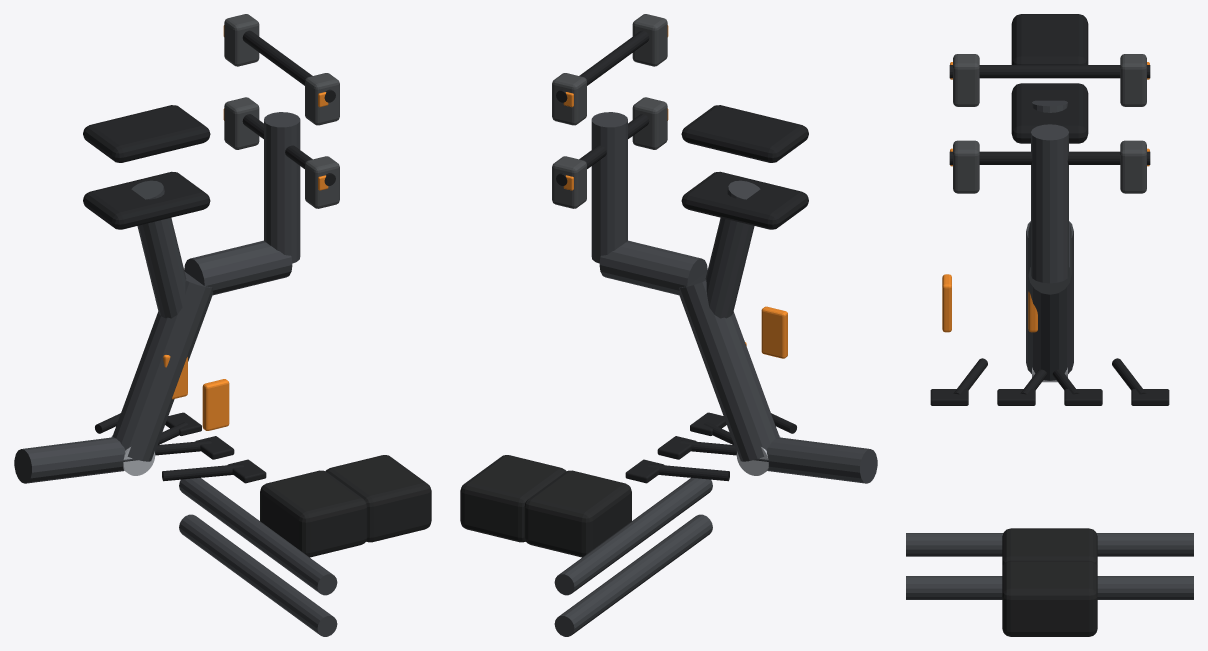
The model's file is zwift-ride-v1.glb.
3 views of the same model, side by side, from view 1: azimuth 30°, elevation 25°; view 2: azimuth 150°, elevation 25°; view 3: azimuth 270°, elevation 25° (orthographic). The views are drawn at different scales.
Visible parts, largest first — view 1: zwift-ride-v1_MAIN_BEAM, zwift-ride-v1_RISER_FOOT, zwift-ride-v1_RISER_FOOT_EXPLODED, zwift-ride-v1_FRONT_MAST, zwift-ride-v1_SADDLE_EXPLODED, zwift-ride-v1_FRONT_LEG_EXPLODED, zwift-ride-v1_FRONT_LEG, zwift-ride-v1_SADDLE, zwift-ride-v1_CHAINSTAY, zwift-ride-v1_TOP_BEAM, zwift-ride-v1_SEAT_MAST, zwift-ride-v1_CTRL_R (+7 smaller); view 2: zwift-ride-v1_MAIN_BEAM, zwift-ride-v1_RISER_FOOT, zwift-ride-v1_RISER_FOOT_EXPLODED, zwift-ride-v1_FRONT_MAST, zwift-ride-v1_SADDLE_EXPLODED, zwift-ride-v1_FRONT_LEG_EXPLODED, zwift-ride-v1_FRONT_LEG, zwift-ride-v1_SADDLE, zwift-ride-v1_CHAINSTAY, zwift-ride-v1_TOP_BEAM, zwift-ride-v1_SEAT_MAST, zwift-ride-v1_CTRL_L (+7 smaller); view 3: zwift-ride-v1_RISER_FOOT_EXPLODED, zwift-ride-v1_FRONT_MAST, zwift-ride-v1_FRONT_LEG, zwift-ride-v1_FRONT_LEG_EXPLODED, zwift-ride-v1_MAIN_BEAM, zwift-ride-v1_SADDLE_EXPLODED, zwift-ride-v1_SADDLE, zwift-ride-v1_RISER_FOOT, zwift-ride-v1_HANDLEBAR_EXPLODED, zwift-ride-v1_HANDLEBAR, zwift-ride-v1_CTRL_L, zwift-ride-v1_CTRL_R (+10 smaller).
Part boxes in pixels (left/top/right/bottom): zwift-ride-v1_MAIN_BEAM: left=112, top=272, right=213, bottom=461; zwift-ride-v1_RISER_FOOT: left=260, top=470, right=367, bottom=557; zwift-ride-v1_RISER_FOOT_EXPLODED: left=326, top=455, right=431, bottom=542; zwift-ride-v1_FRONT_MAST: left=264, top=112, right=300, bottom=263; zwift-ride-v1_SADDLE_EXPLODED: left=83, top=105, right=210, bottom=162; zwift-ride-v1_FRONT_LEG_EXPLODED: left=179, top=514, right=337, bottom=636; zwift-ride-v1_FRONT_LEG: left=179, top=478, right=337, bottom=595; zwift-ride-v1_SADDLE: left=83, top=171, right=210, bottom=229; zwift-ride-v1_CHAINSTAY: left=14, top=437, right=137, bottom=483; zwift-ride-v1_TOP_BEAM: left=184, top=240, right=292, bottom=295; zwift-ride-v1_SEAT_MAST: left=131, top=180, right=186, bottom=318; zwift-ride-v1_CTRL_R: left=224, top=97, right=259, bottom=149; zwift-ride-v1_MAIN_BEAM: left=678, top=272, right=779, bottom=461; zwift-ride-v1_RISER_FOOT: left=524, top=470, right=631, bottom=557; zwift-ride-v1_RISER_FOOT_EXPLODED: left=460, top=455, right=565, bottom=542; zwift-ride-v1_FRONT_MAST: left=591, top=112, right=627, bottom=263; zwift-ride-v1_SADDLE_EXPLODED: left=681, top=105, right=808, bottom=162; zwift-ride-v1_FRONT_LEG_EXPLODED: left=554, top=514, right=712, bottom=636; zwift-ride-v1_FRONT_LEG: left=554, top=478, right=712, bottom=595; zwift-ride-v1_SADDLE: left=681, top=171, right=808, bottom=229; zwift-ride-v1_CHAINSTAY: left=754, top=437, right=877, bottom=483; zwift-ride-v1_TOP_BEAM: left=599, top=240, right=707, bottom=295; zwift-ride-v1_SEAT_MAST: left=705, top=180, right=760, bottom=318; zwift-ride-v1_CTRL_L: left=632, top=97, right=667, bottom=149; zwift-ride-v1_RISER_FOOT_EXPLODED: left=1002, top=560, right=1097, bottom=636; zwift-ride-v1_FRONT_MAST: left=1031, top=124, right=1068, bottom=283; zwift-ride-v1_FRONT_LEG: left=906, top=533, right=1193, bottom=556; zwift-ride-v1_FRONT_LEG_EXPLODED: left=906, top=576, right=1193, bottom=599; zwift-ride-v1_MAIN_BEAM: left=1026, top=221, right=1073, bottom=380; zwift-ride-v1_SADDLE_EXPLODED: left=1011, top=14, right=1088, bottom=64; zwift-ride-v1_SADDLE: left=1011, top=83, right=1088, bottom=143; zwift-ride-v1_RISER_FOOT: left=1002, top=528, right=1097, bottom=567; zwift-ride-v1_HANDLEBAR_EXPLODED: left=949, top=65, right=1150, bottom=78; zwift-ride-v1_HANDLEBAR: left=949, top=151, right=1150, bottom=164; zwift-ride-v1_CTRL_L: left=953, top=140, right=979, bottom=193; zwift-ride-v1_CTRL_R: left=1120, top=140, right=1146, bottom=193.
Bounding box in the file's own units: 0.9792 × 1.27 × 0.602.
